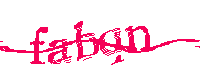a: (49, 39, 69, 66)
b: (72, 22, 99, 61)
f: (30, 26, 49, 66)
n: (126, 24, 151, 55)
q: (99, 27, 125, 66)
